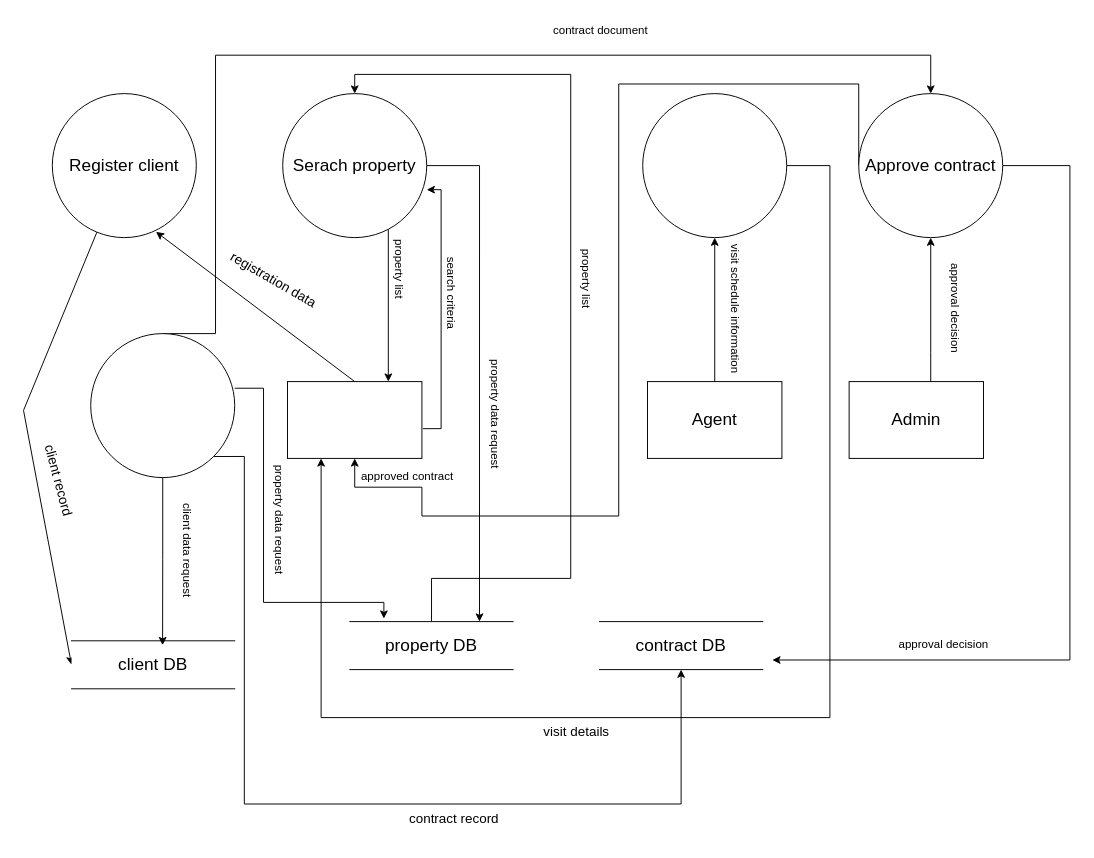
This 1094x858 diagram has some shape labels left out. The centre of each missing label's shape, as x and y in pixels:
"Client" belongs at point 354,419.
"Generate contract" belongs at point 162,405.
"Manage visit" belongs at point 714,165.
